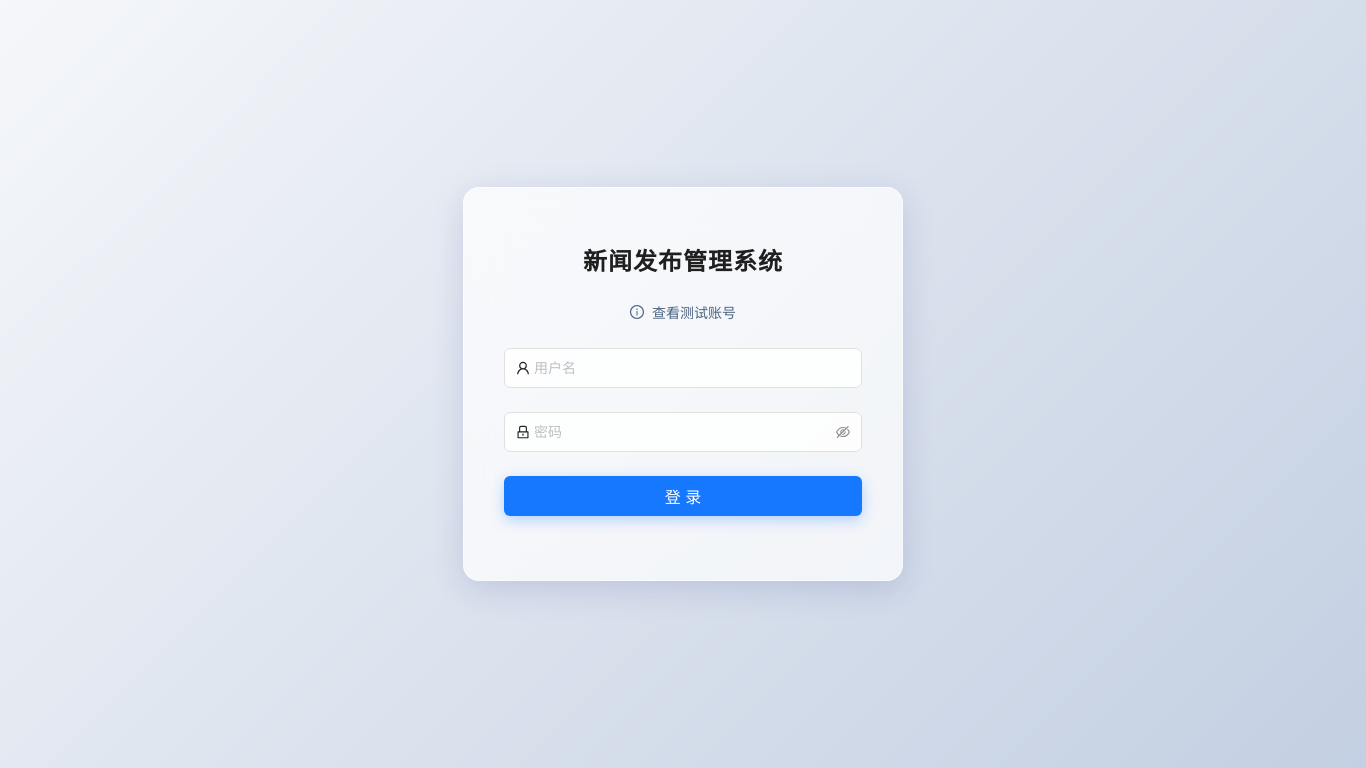
Test: Login 组件 › 应该在提交空表单时显示验证错误
# 直接点击登录按钮（不输入任何内容）
Click the button "登 录": point(683, 496) x1=504 y1=476 x2=862 y2=516
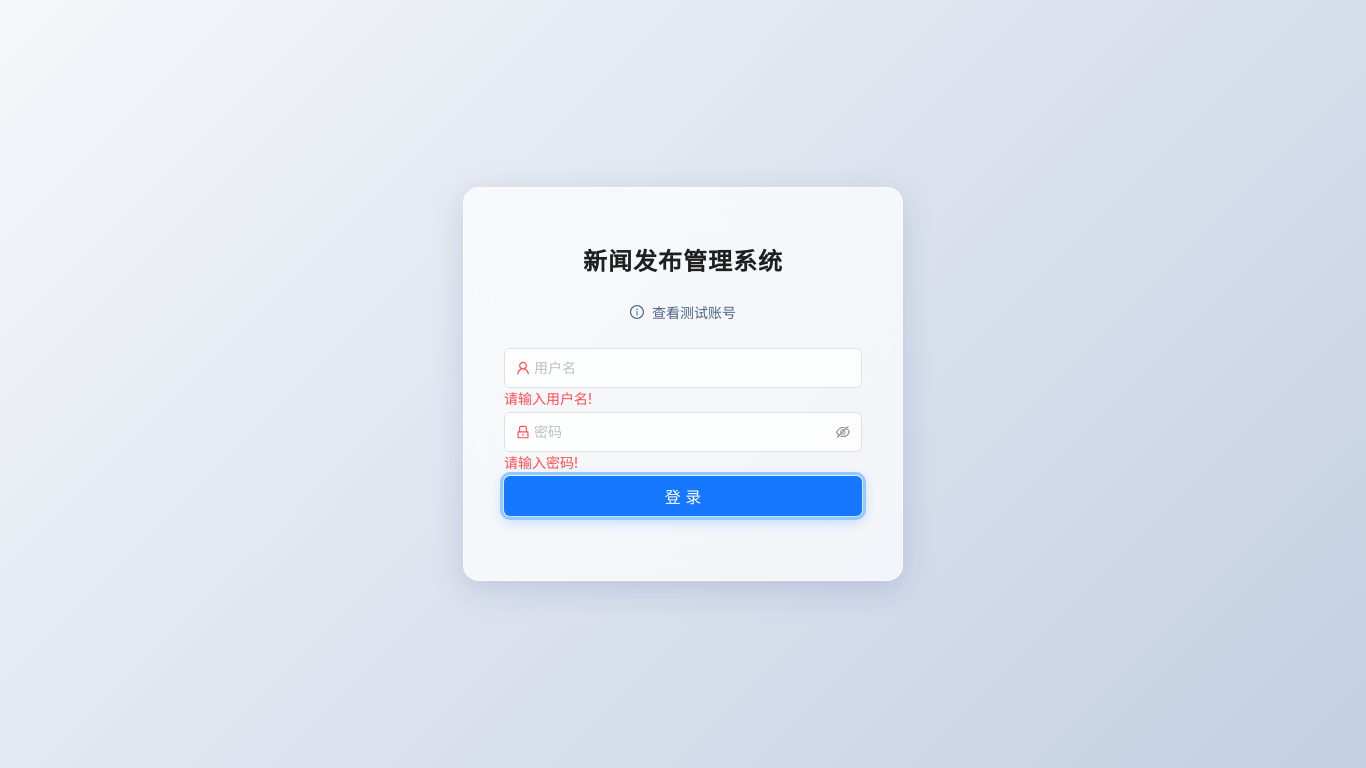
Now the text "请输入用户名!" is shown, box x1=504 y1=390 x2=592 y2=407
